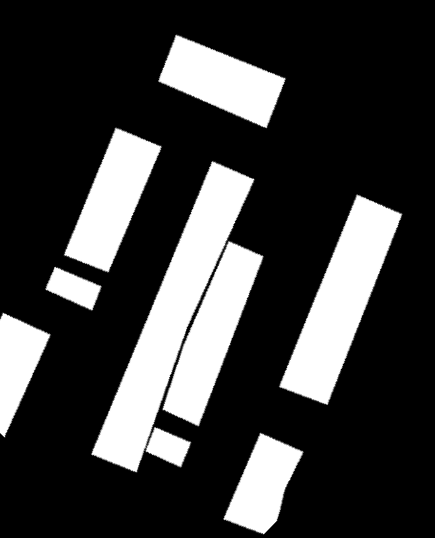parkingspot: (91, 161, 254, 472), (279, 195, 402, 405), (163, 241, 263, 426), (64, 128, 161, 272), (158, 35, 286, 128), (223, 433, 303, 534), (0, 313, 50, 437), (46, 267, 101, 310), (145, 445, 148, 449)
